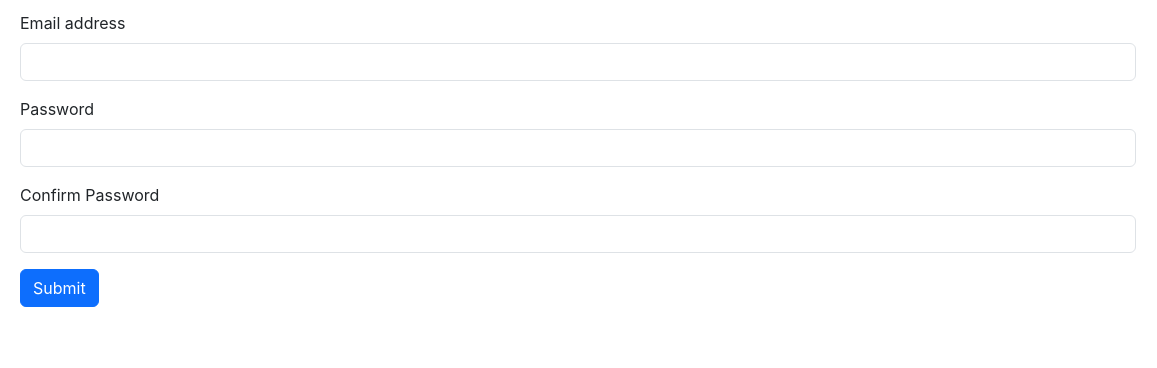
Test: show err › should show password error if password is less than 5 characters
The image size is (1157, 368).
In the field labelled "Email address": (578,62) [20,43,1136,81], type "zhang@gmail.com"
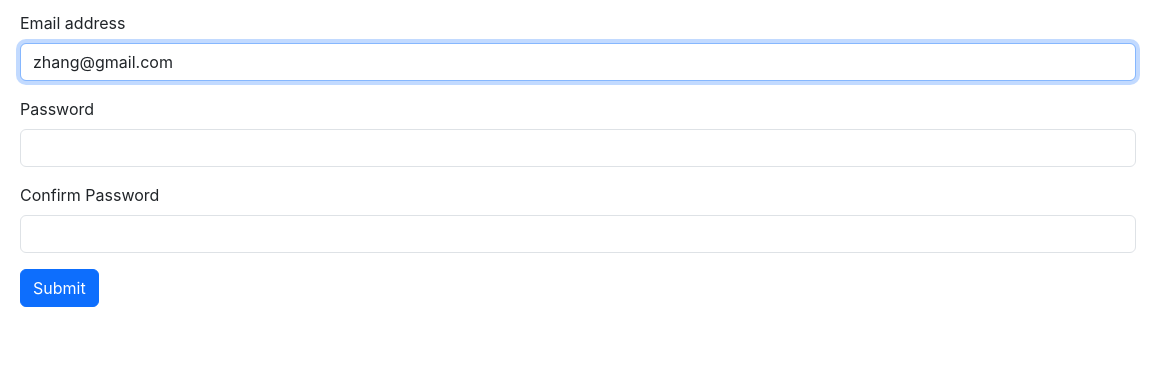
In the password field labelled "Password": (578,148) [20,129,1136,167], type "123"
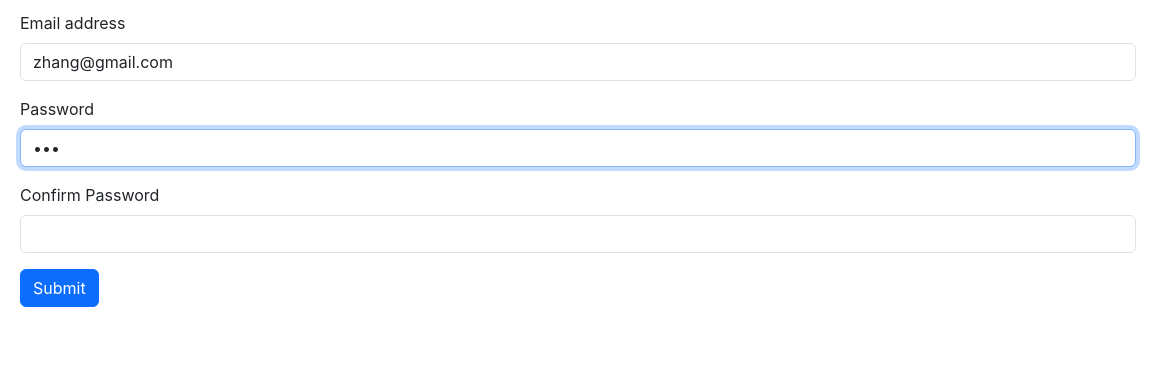
Click the button with test id "button": (59,288) [20,269,99,307]
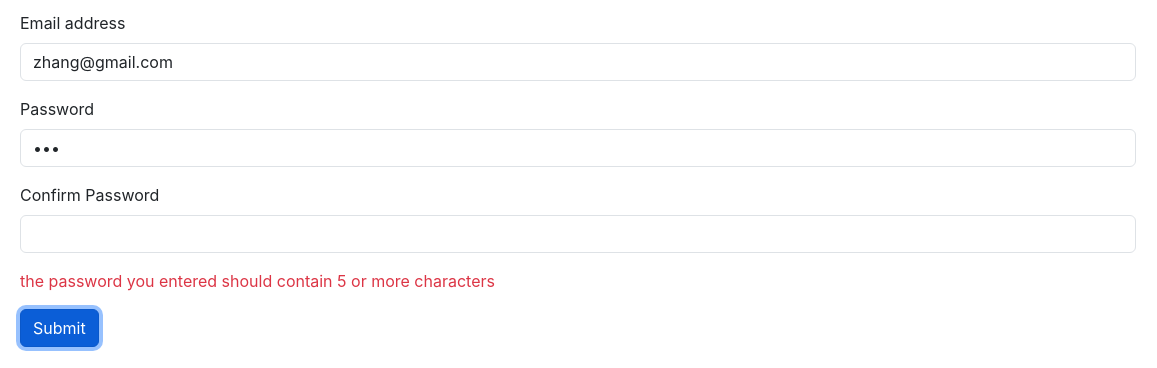
Expected: the text "the password you entered should contain 5 or more characters" is shown, [20,271,495,291]
